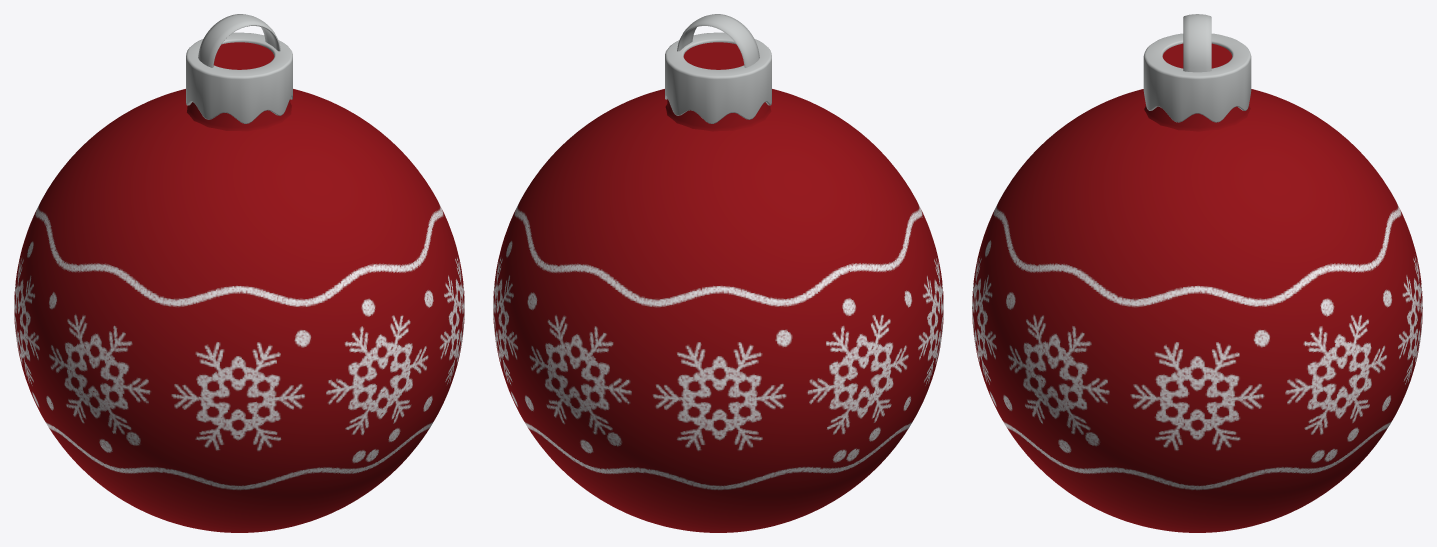
Rendered from ball2.fbx.
3 renders of one model, left to right at view 1: azimuth 30°, elevation 25°; view 2: azimuth 150°, elevation 25°; view 3: azimuth 270°, elevation 25°, orthographic.
Visible parts, largest first — view 1: HolidayBall; view 2: HolidayBall; view 3: HolidayBall.
Part boxes in pixels (left/top/right/bottom): HolidayBall: left=14, top=14, right=464, bottom=532; HolidayBall: left=493, top=14, right=943, bottom=532; HolidayBall: left=972, top=14, right=1422, bottom=532.
Size of the model in its own units: 10 by 12.09 by 10.
